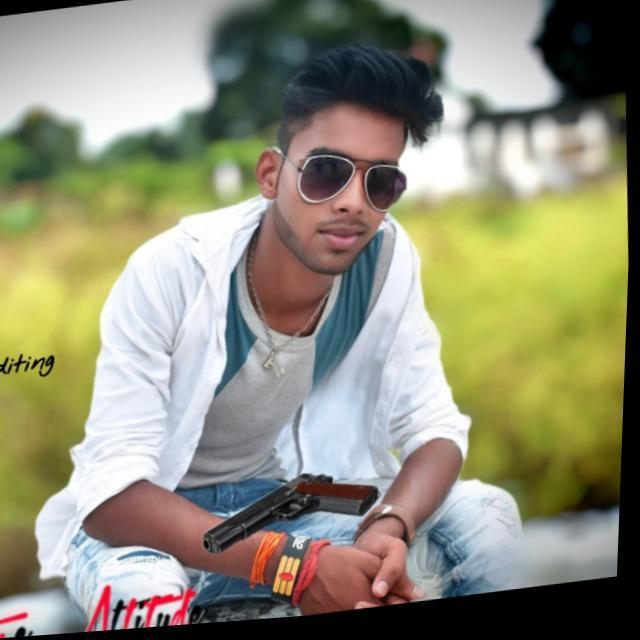weapon: (195, 465, 391, 564)
